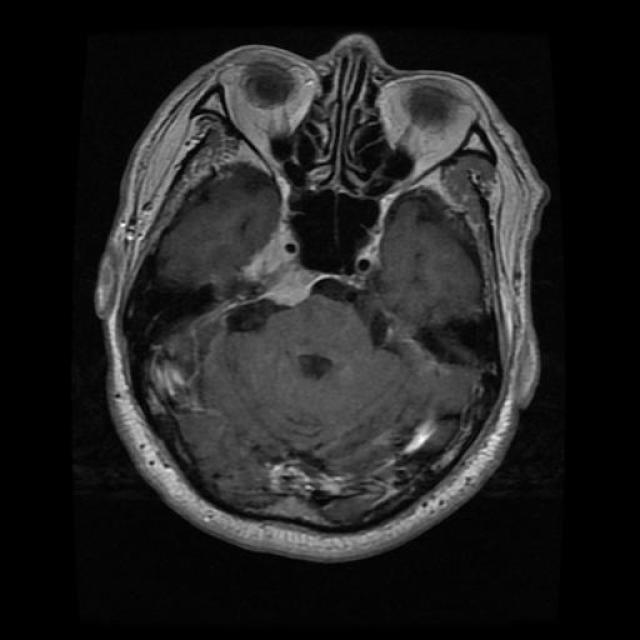meningioma: (255, 269, 324, 308)
